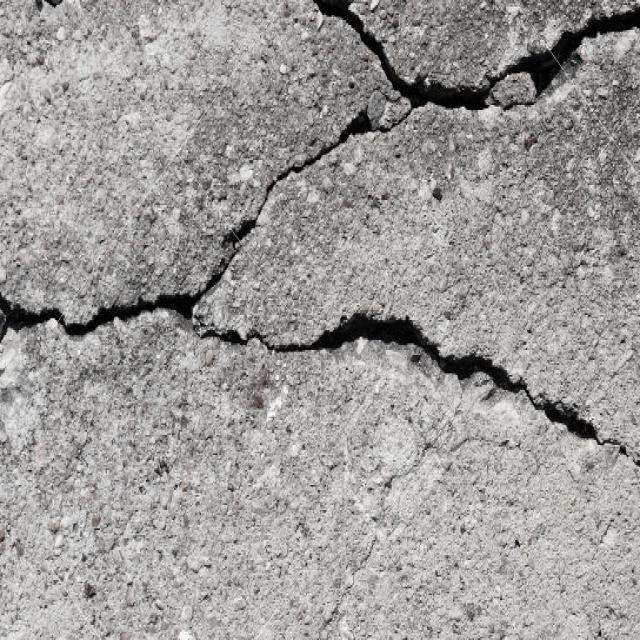crack: (1, 291, 639, 467), (316, 0, 638, 162), (196, 156, 314, 308)
